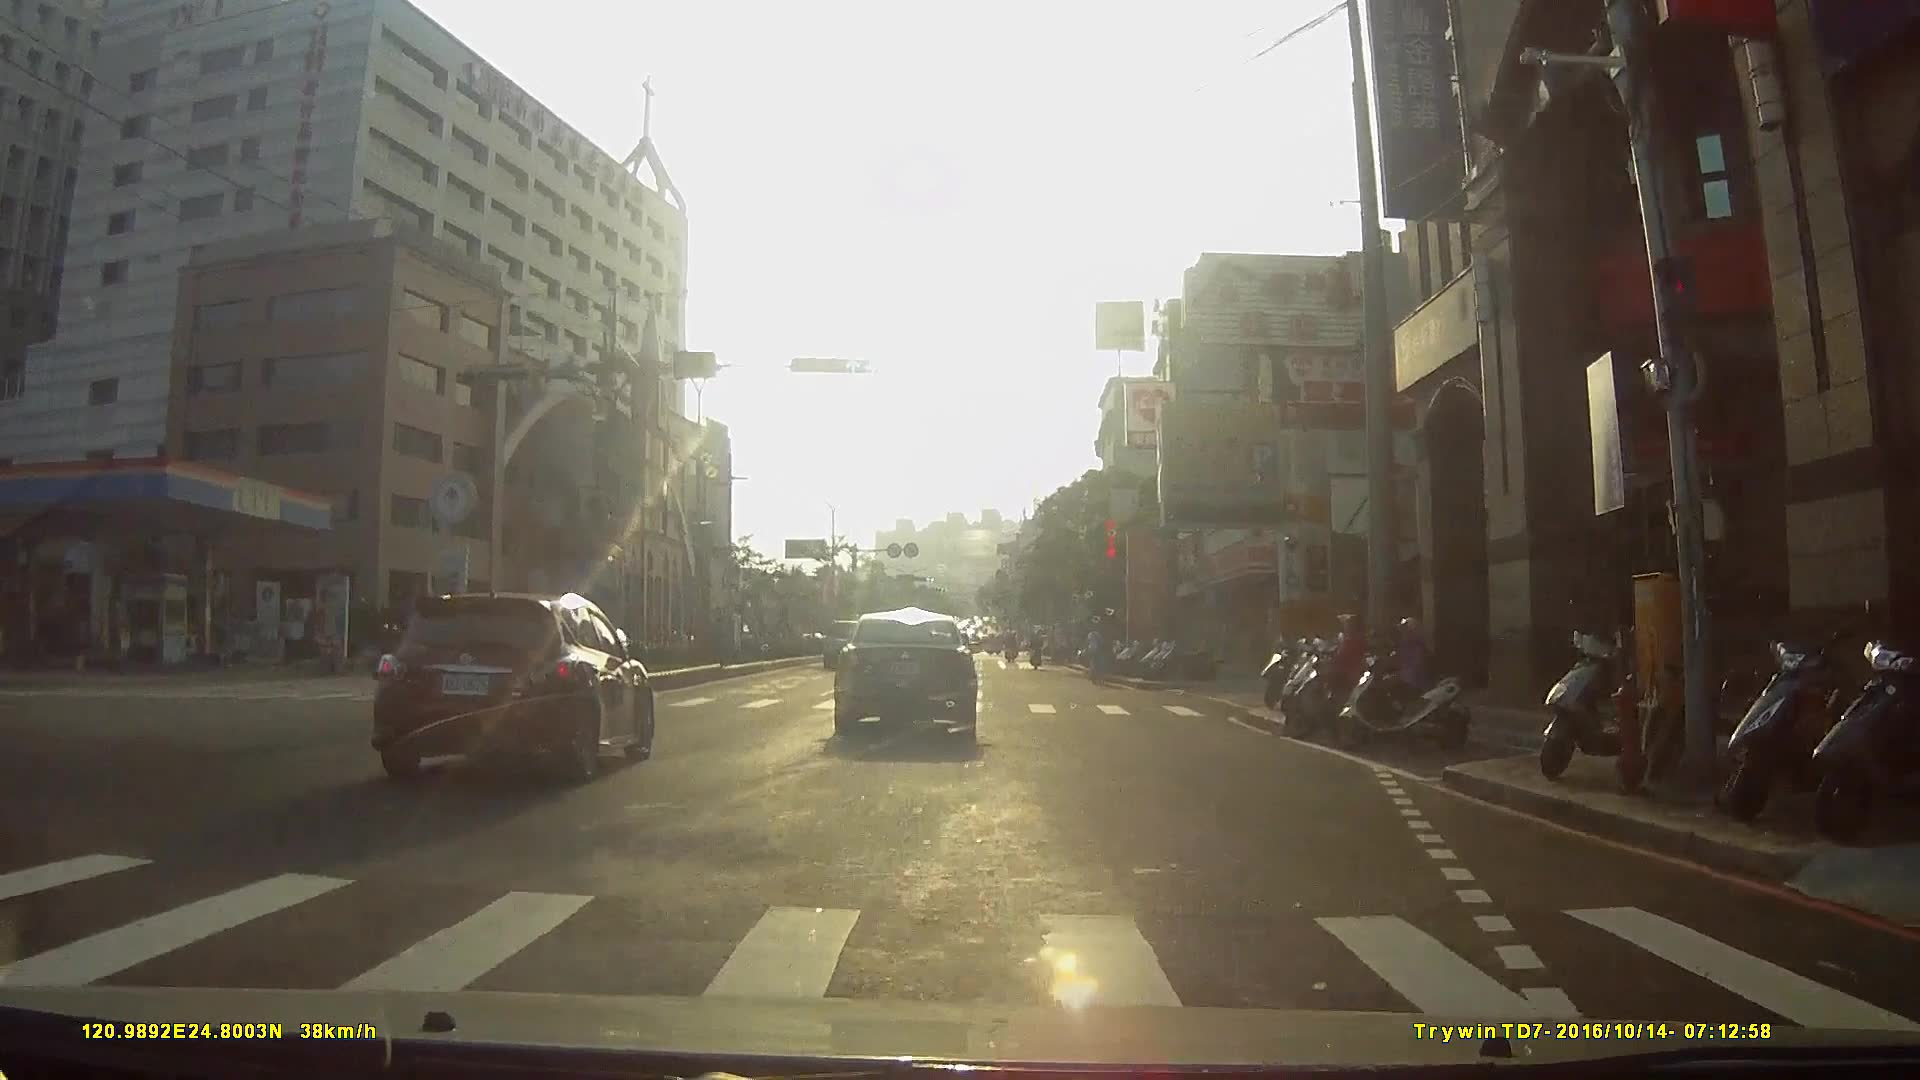rider: (1330, 606, 1477, 758), (1275, 608, 1389, 731)
vehicle: (369, 583, 663, 785), (836, 605, 999, 745), (763, 607, 822, 662)
